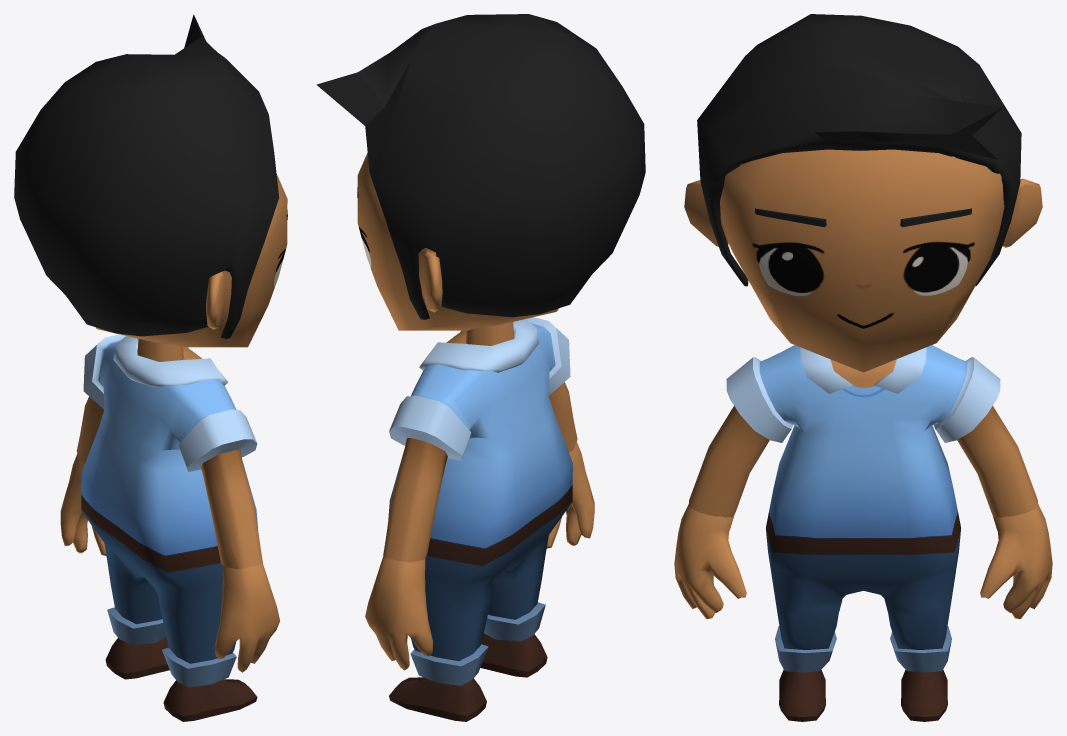
File: Character_1A.fbx
The picture shows the model from 3 angles, left to right: view 1: azimuth 30°, elevation 25°; view 2: azimuth 150°, elevation 25°; view 3: azimuth 270°, elevation 25°; orthographic projection. The views are drawn at different scales.
Visible parts, largest first — view 1: Character1A; view 2: Character1A; view 3: Character1A.
Part boxes in pixels (left/top/right/bottom): Character1A: left=14, top=14, right=287, bottom=721; Character1A: left=316, top=14, right=645, bottom=721; Character1A: left=674, top=14, right=1052, bottom=721.
Bounding box in the file's own units: 47.26 × 125 × 64.49.
